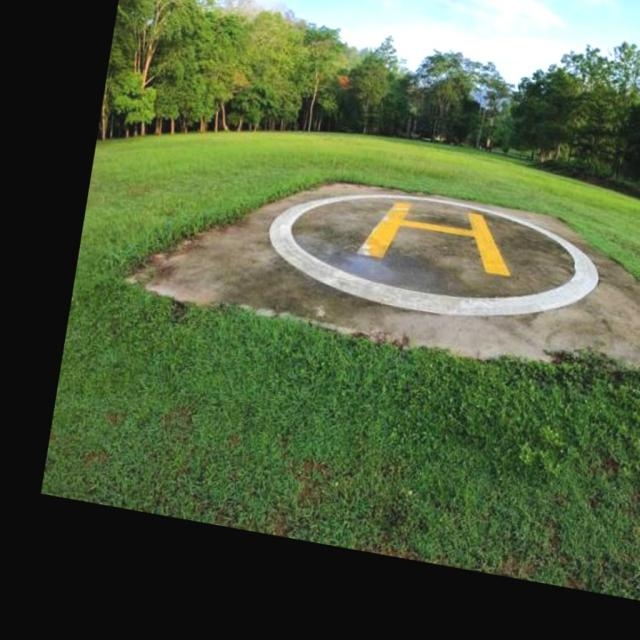helipad: (259, 182, 602, 324)
